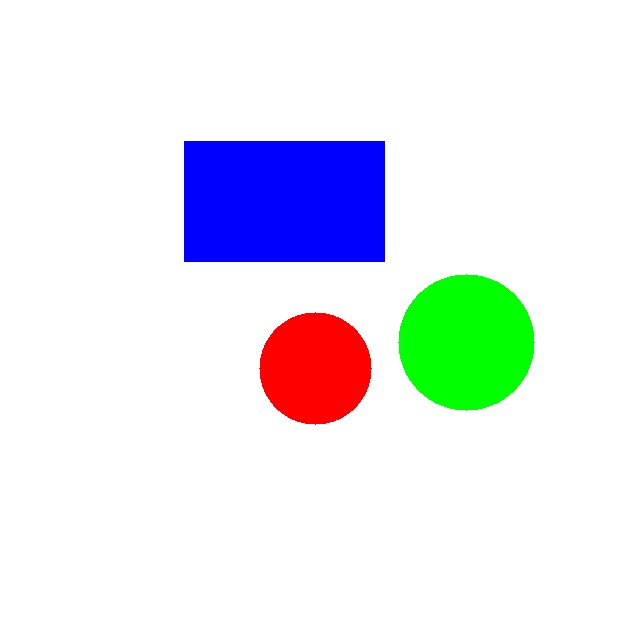cartao: (184, 141, 384, 261)
rosca_externa: (398, 274, 534, 410)
rosca_interna: (259, 312, 371, 424)
